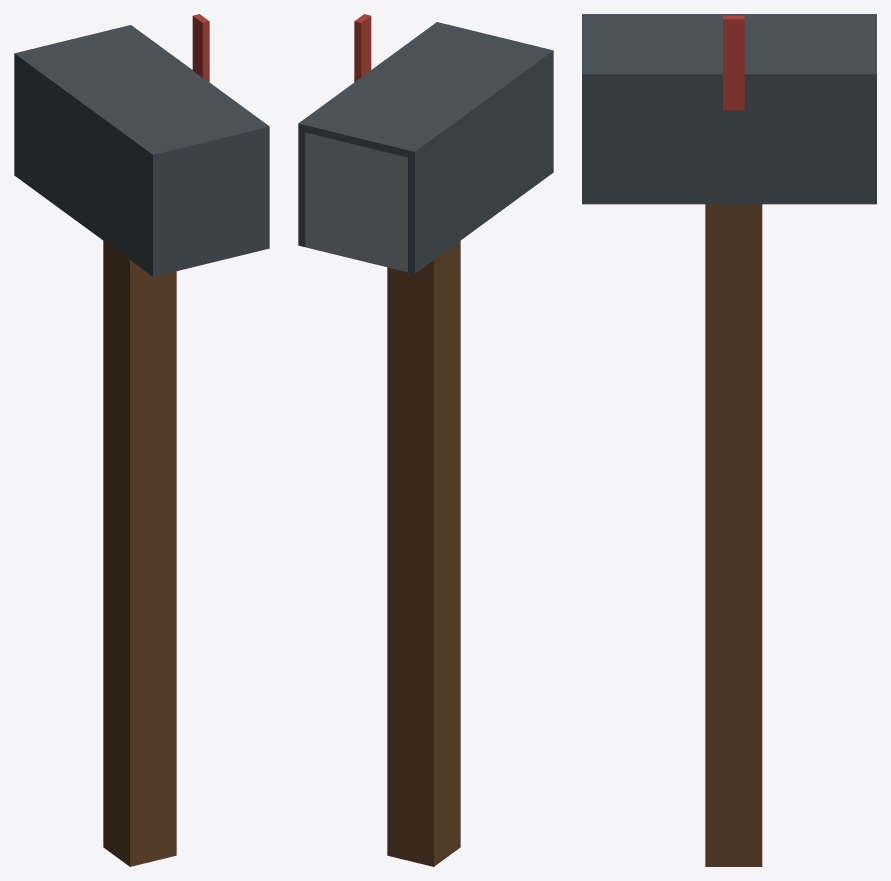
The model's file is GI_Mailbox_01.glb.
The picture shows the model from 3 angles, left to right: view 1: azimuth 30°, elevation 25°; view 2: azimuth 150°, elevation 25°; view 3: azimuth 270°, elevation 25°; orthographic projection. The views are drawn at different scales.
Visible parts, largest first — view 1: GI_Mailbox_01, Flap, Flag; view 2: GI_Mailbox_01, Flap, Flag; view 3: GI_Mailbox_01, Flag, Flap.
Boxes of the visible parts, x1,y1,x2,y2 form: GI_Mailbox_01: (14,25,265,866); Flap: (149,123,269,276); Flag: (192,14,209,81); GI_Mailbox_01: (298,25,549,866); Flap: (433,22,553,174); Flag: (354,14,371,81); GI_Mailbox_01: (590,14,876,866); Flag: (723,15,744,110); Flap: (582,14,590,204).
Bounding box in the file's own units: 0.211 × 1.34 × 0.412.
1 material, 1 textured.
